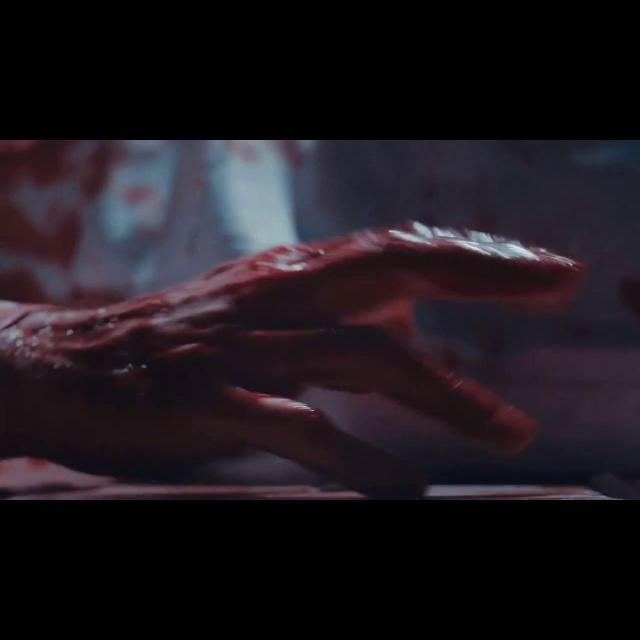blood: (0, 222, 584, 497), (0, 140, 116, 302)
